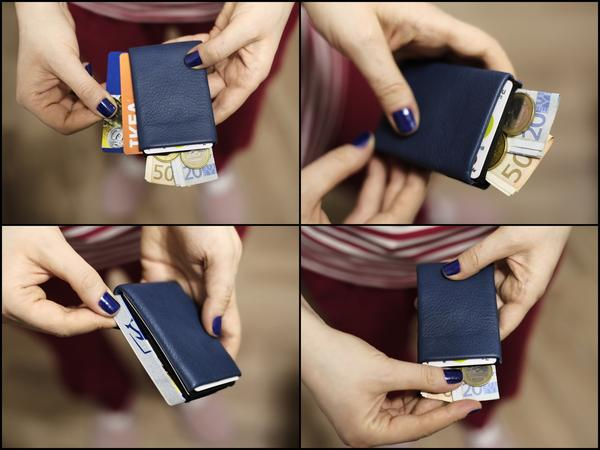monedero: (369, 58, 528, 192), (114, 278, 243, 406), (127, 39, 218, 157), (414, 260, 504, 375)
